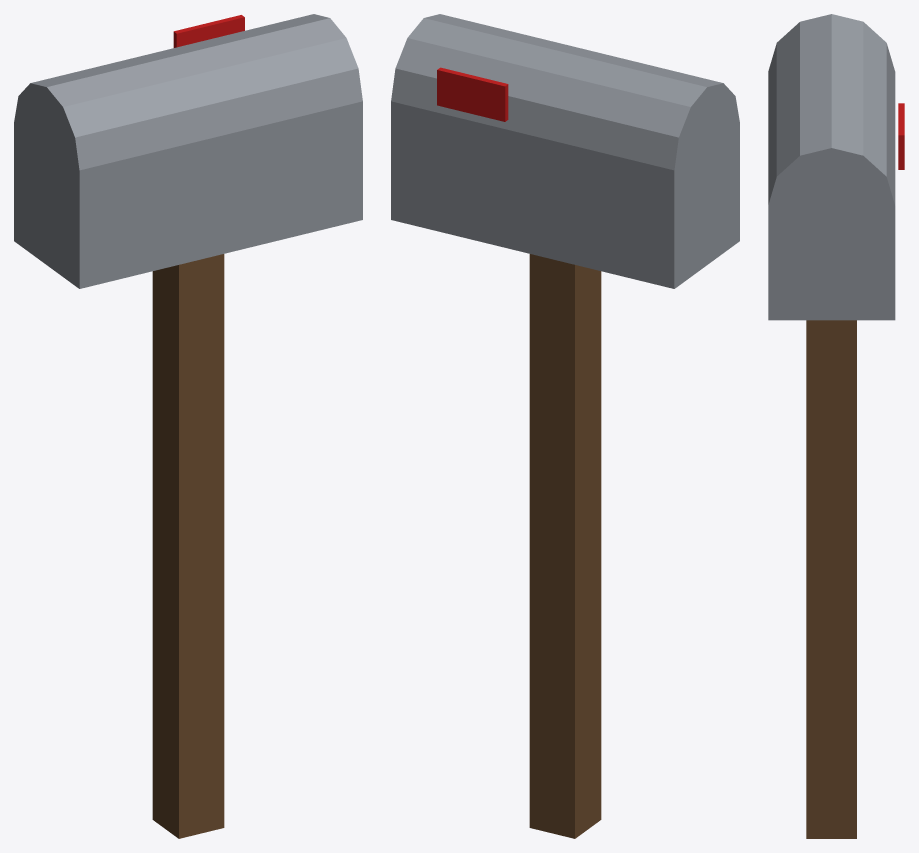
The model's file is mailbox.glb.
The picture shows the model from 3 angles, left to right: view 1: azimuth 30°, elevation 25°; view 2: azimuth 150°, elevation 25°; view 3: azimuth 270°, elevation 25°; orthographic projection. The views are drawn at different scales.
Parts seen in each view (by area): view 1: mailbox; view 2: mailbox; view 3: mailbox.
Boxes of the visible parts, box(x1,y1,x2,y2) form: mailbox: box(14, 14, 362, 838); mailbox: box(391, 14, 739, 838); mailbox: box(768, 14, 904, 838).
Bounding box in the file's own units: 0.5 × 1.3 × 0.215.
